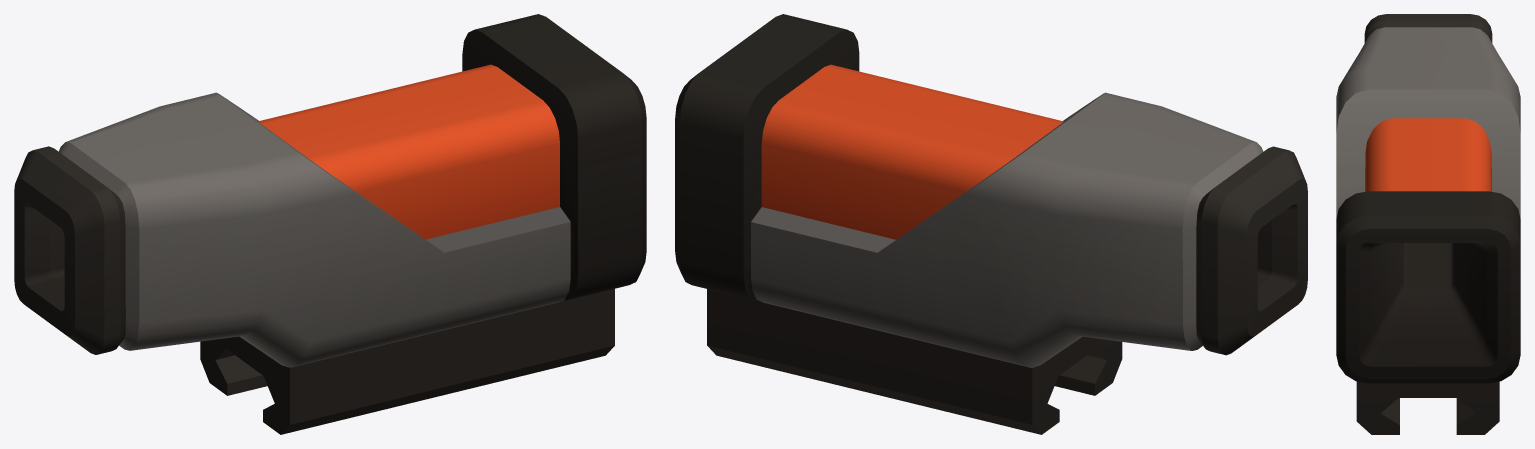
Rendered from Sight_02.fbx.
The picture shows the model from 3 angles, left to right: view 1: azimuth 30°, elevation 25°; view 2: azimuth 150°, elevation 25°; view 3: azimuth 270°, elevation 25°; orthographic projection. The views are drawn at different scales.
Parts seen in each view (by area): view 1: Sight_02; view 2: Sight_02; view 3: Sight_02.
Boxes of the visible parts, x1=… form: Sight_02: x1=14, y1=14, x2=646, y2=434; Sight_02: x1=675, y1=14, x2=1307, y2=434; Sight_02: x1=1336, y1=14, x2=1520, y2=434.
Bounding box in the file's own units: 13.87 × 6.78 × 5.05.
